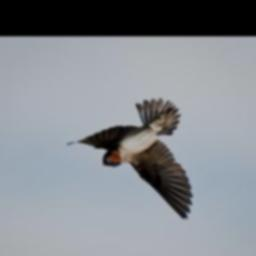Swallow: (66, 96, 195, 223)
